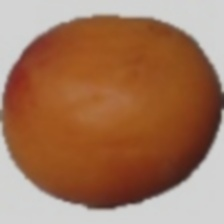apricot: (6, 20, 189, 190)
